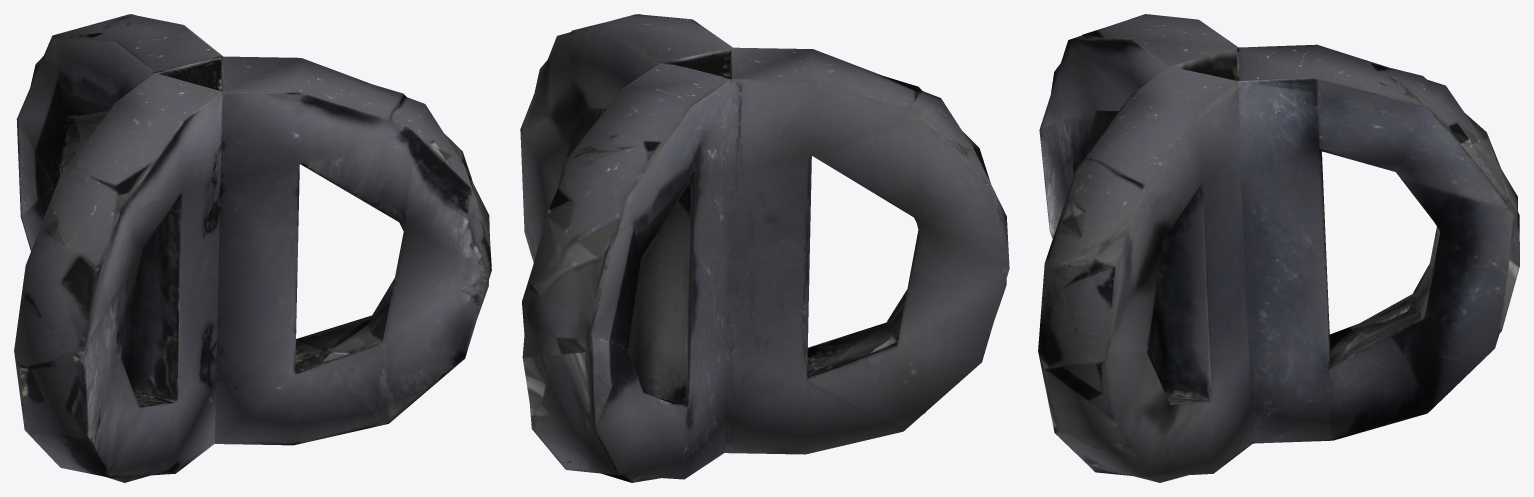
File: D_harfi.fbx
The picture shows the model from 3 angles, left to right: view 1: azimuth 30°, elevation 25°; view 2: azimuth 150°, elevation 25°; view 3: azimuth 270°, elevation 25°; orthographic projection. The views are drawn at different scales.
Parts seen in each view (by area): view 1: input; view 2: input; view 3: input.
Part boxes in pixels (x1,y1,x2,y2): input: (14, 14, 491, 482); input: (520, 14, 1009, 482); input: (1038, 14, 1519, 482).
Bounding box in the file's own units: 200 × 146 × 173.
Materials: 1 (1 with a texture image).
